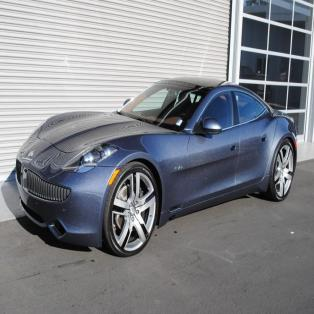Auto: (15, 78, 298, 258)
